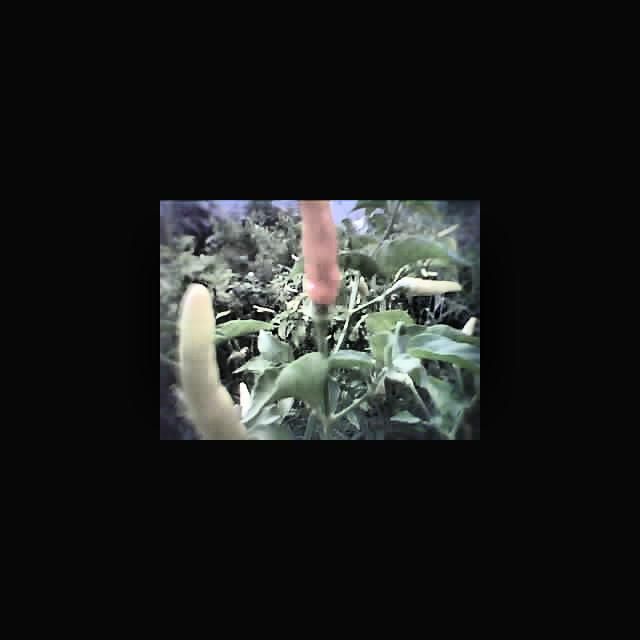Cabai: (298, 200, 347, 314)
